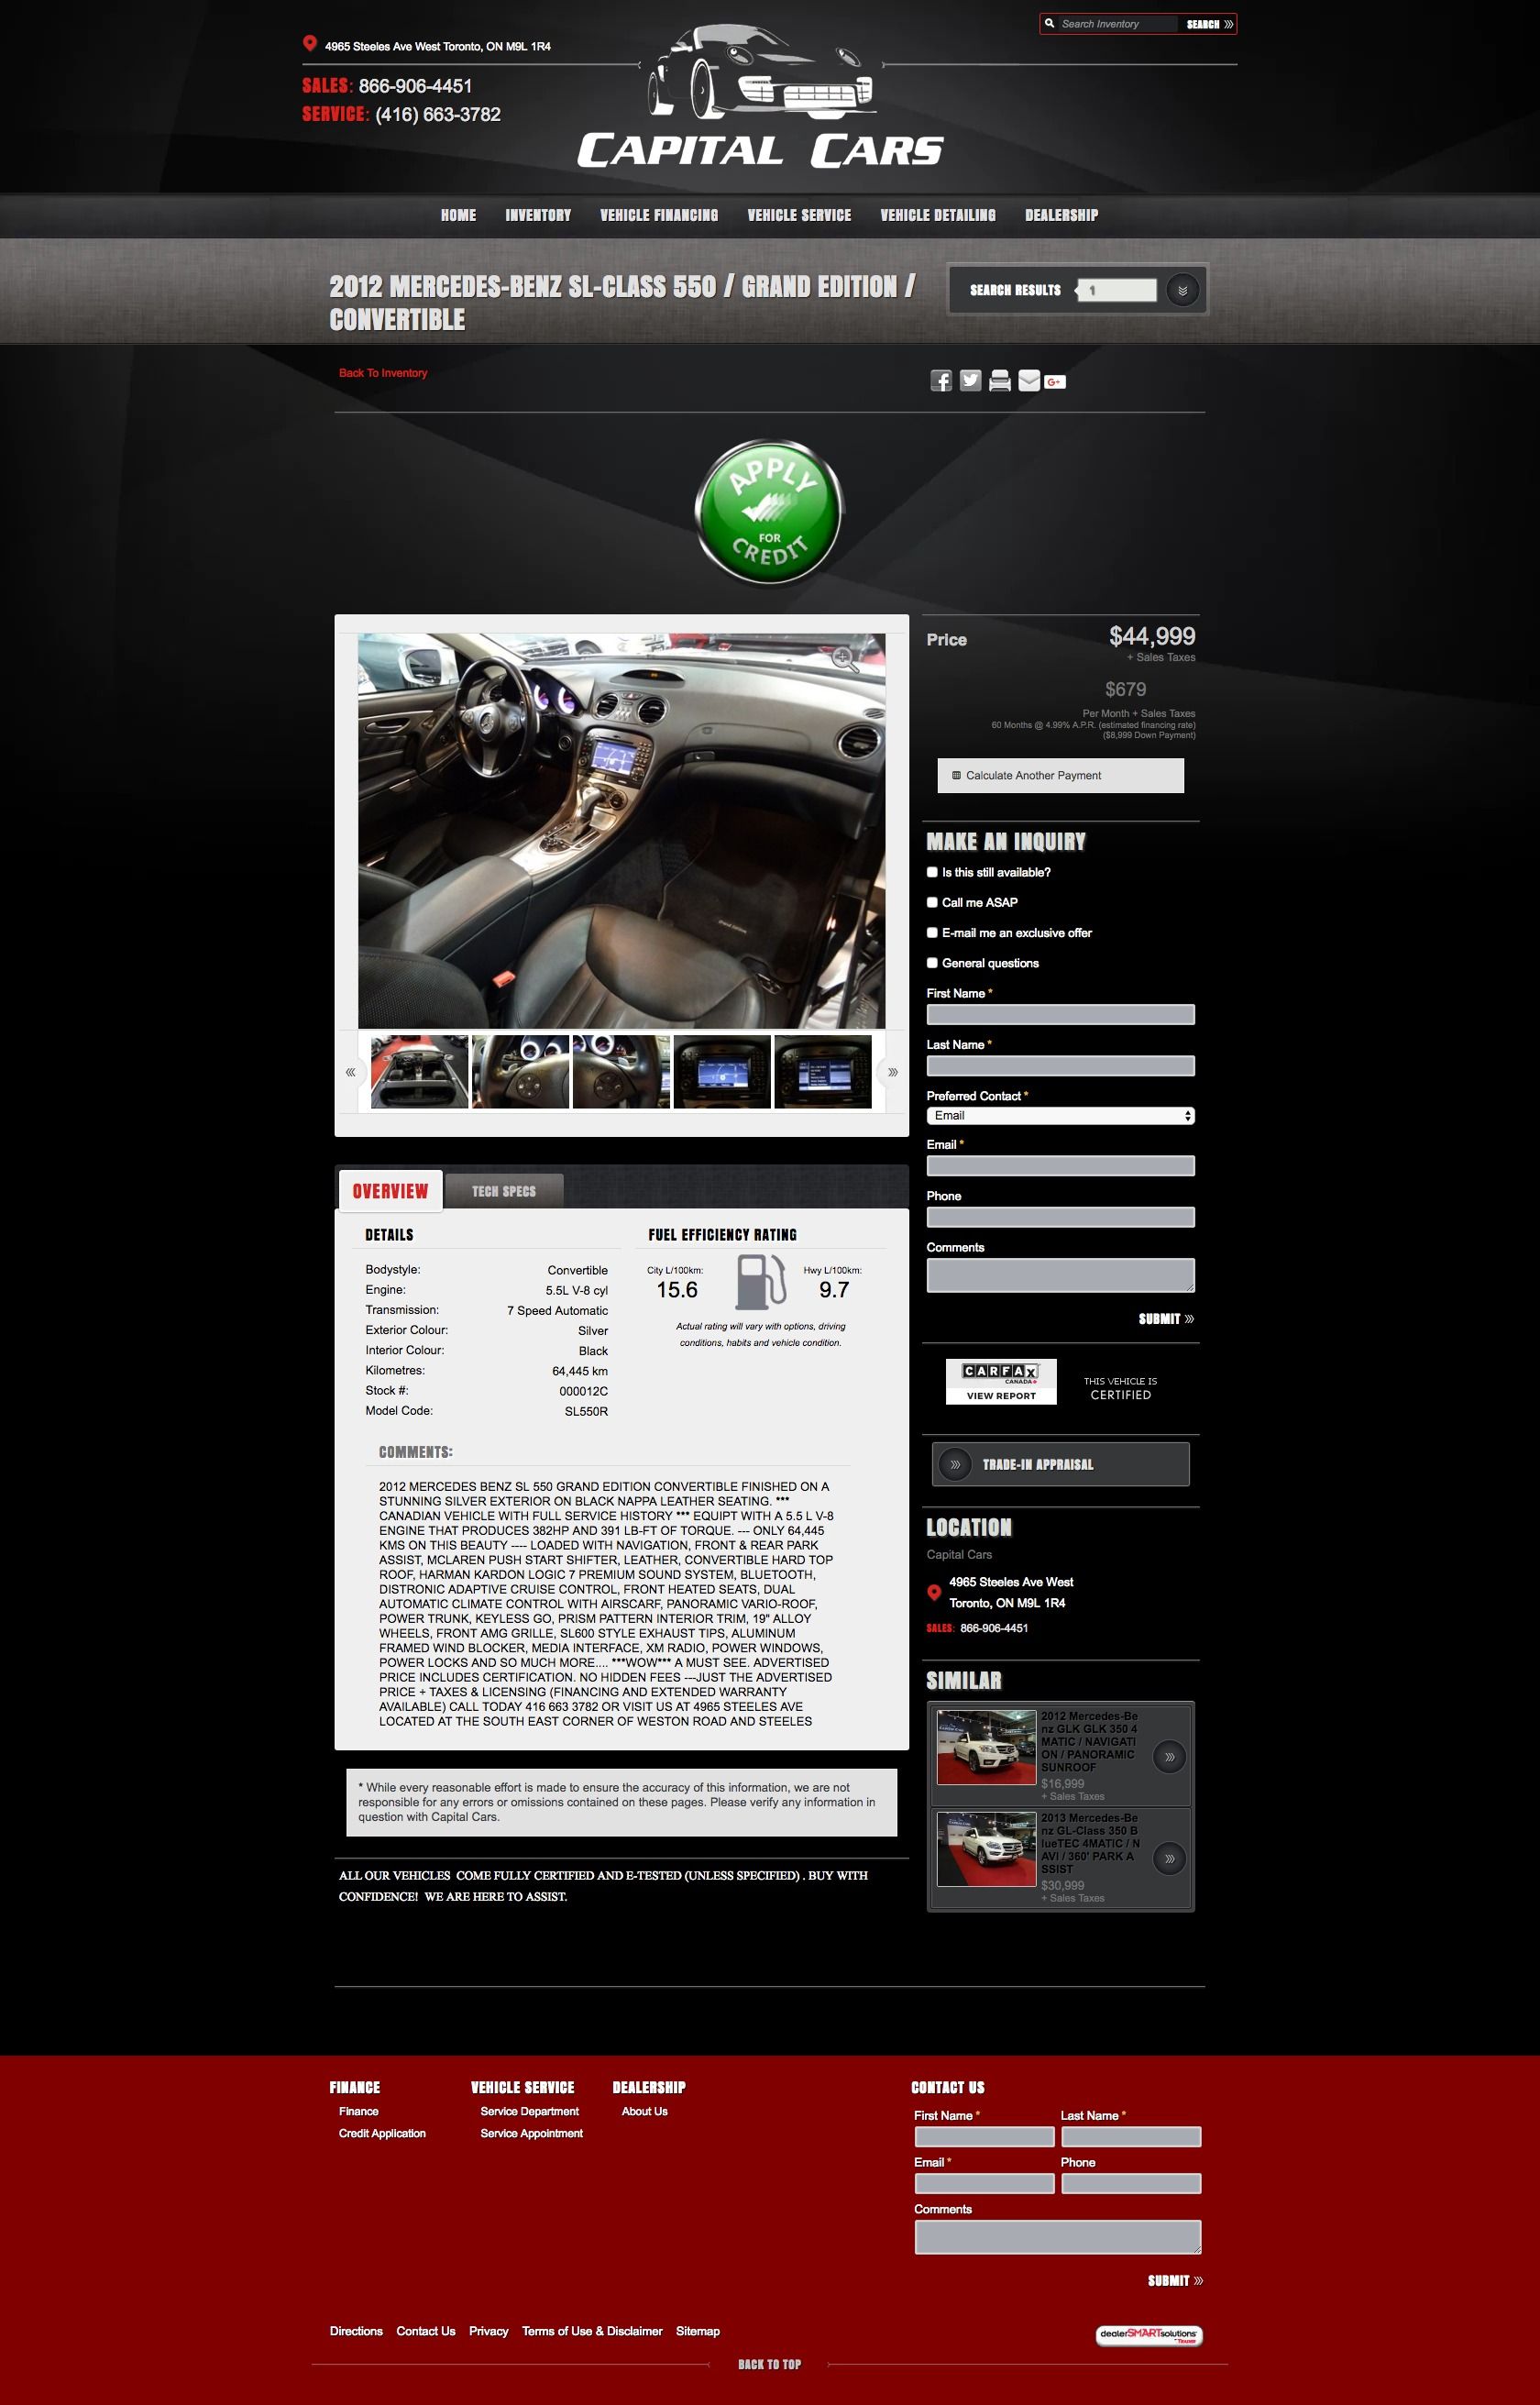car: (883, 1061, 906, 1085)
